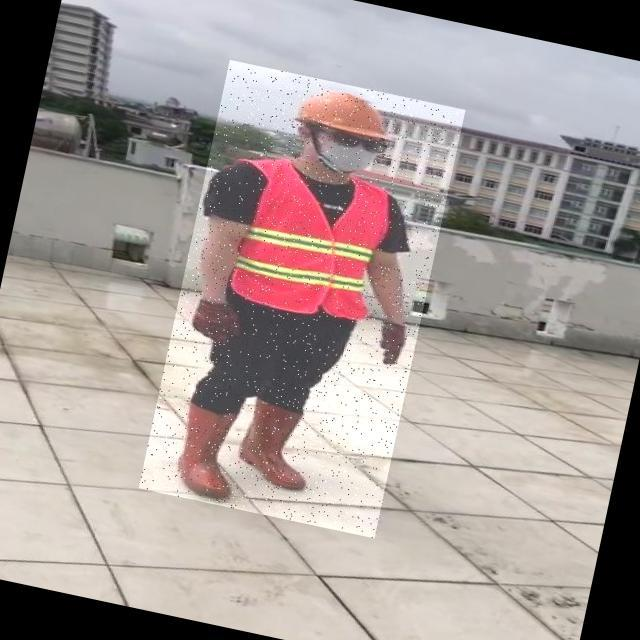Helmet: (294, 82, 399, 144)
Human: (139, 60, 467, 539)
Safety Boot: (175, 399, 253, 502), (236, 399, 323, 491)
Safety Vest: (229, 159, 401, 327)
